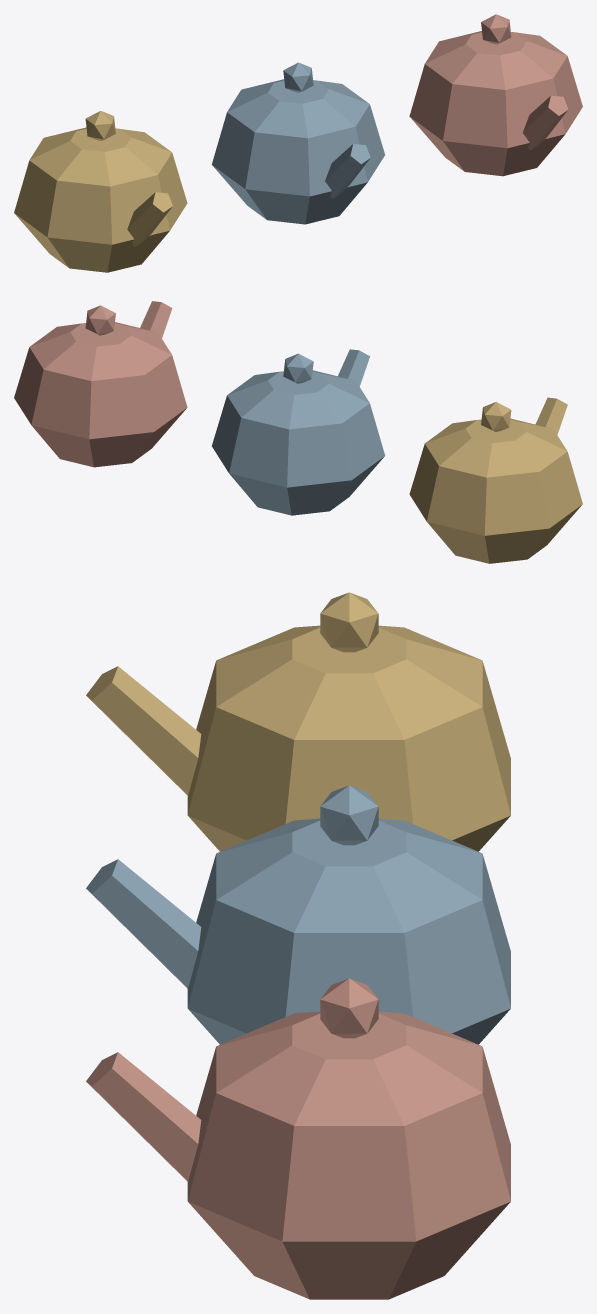
File: teapots.glb
The picture shows the model from 3 angles, top to bottom: view 1: azimuth 30°, elevation 25°; view 2: azimuth 150°, elevation 25°; view 3: azimuth 270°, elevation 25°; orthographic projection. The views are drawn at different scales.
Parts seen in each view (by area): view 1: teapots; view 2: teapots; view 3: teapots.
Part boxes in pixels (box(x1,y1,x2,y2)): teapots: box(14, 14, 582, 272); teapots: box(14, 301, 582, 563); teapots: box(86, 592, 510, 1299).
Size of the model in its own units: 0.65 by 0.163 by 0.2235.
